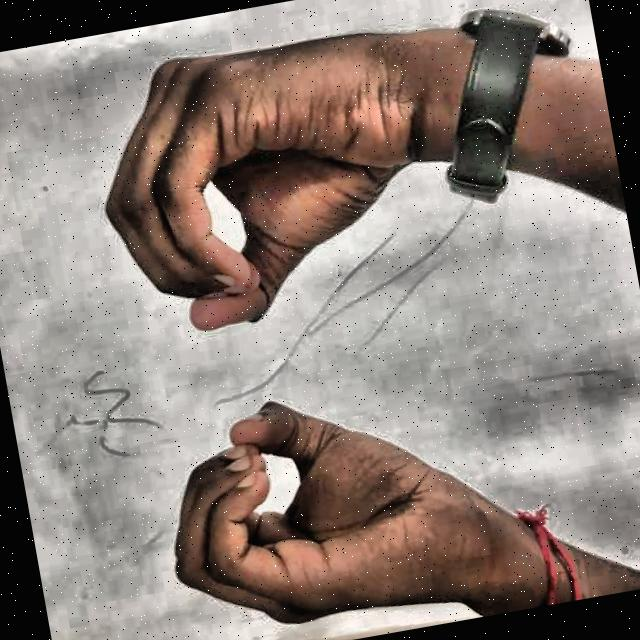Bisharga: (41, 0, 518, 640)
